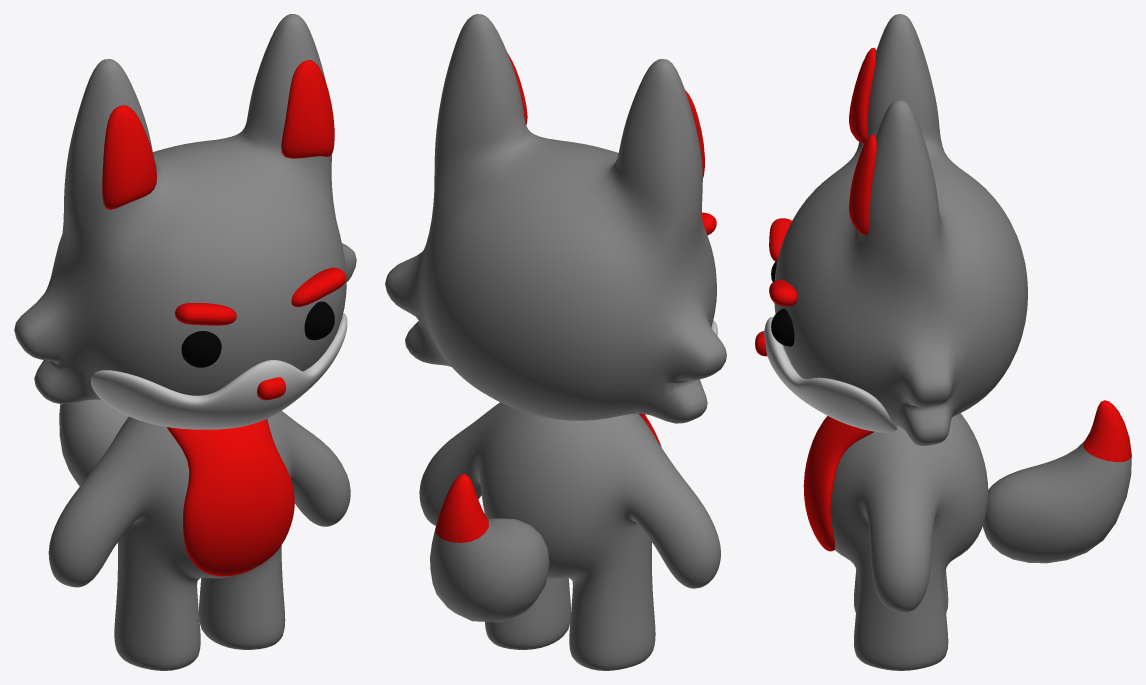
File: WolfRed.fbx
3 renders of one model, left to right at view 1: azimuth 30°, elevation 25°; view 2: azimuth 150°, elevation 25°; view 3: azimuth 270°, elevation 25°, orthographic. The views are drawn at different scales.
Visible parts, largest first — view 1: Cube.024; view 2: Cube.024; view 3: Cube.024.
Part boxes in pixels (bbox=[...]): Cube.024: bbox=[14, 14, 356, 670]; Cube.024: bbox=[385, 14, 726, 670]; Cube.024: bbox=[755, 14, 1131, 670].
Size of the model in its own units: 233 by 404 by 238.
